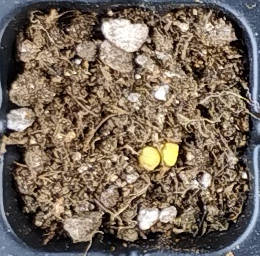chilli seed: (138, 146, 160, 170), (162, 142, 179, 166)
